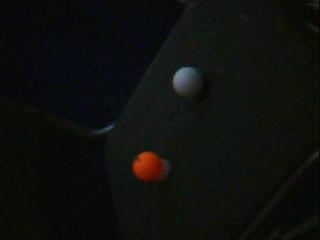oball: (132, 152, 161, 181)
